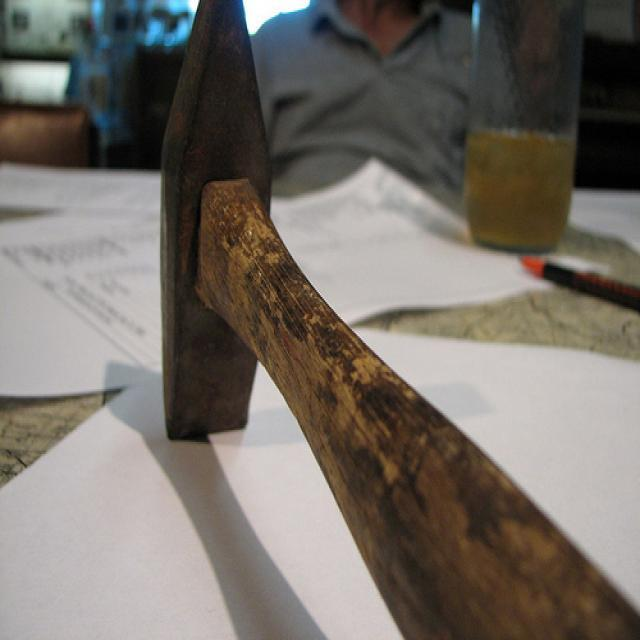hammer: (146, 0, 628, 640)
